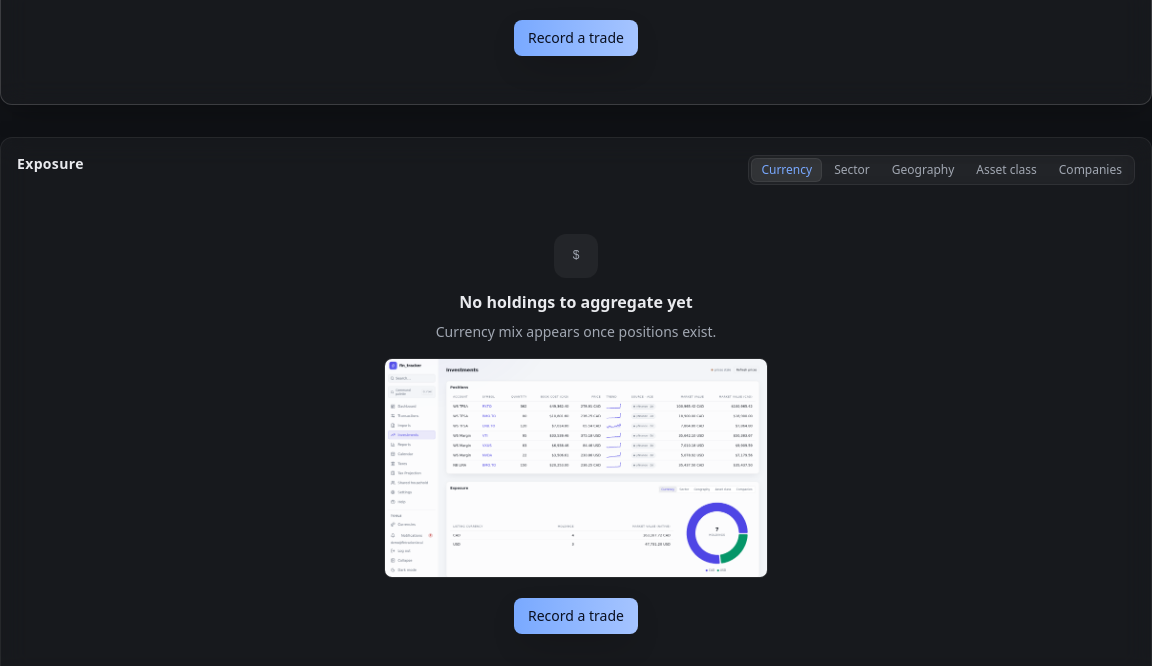
Test: M169 — the exposure drill-down › never fetches a drill for a bucket nobody opened
(page scrolled)
Click the tab "Geography": [923, 170] box 882,158 -> 964,182
(page scrolled)
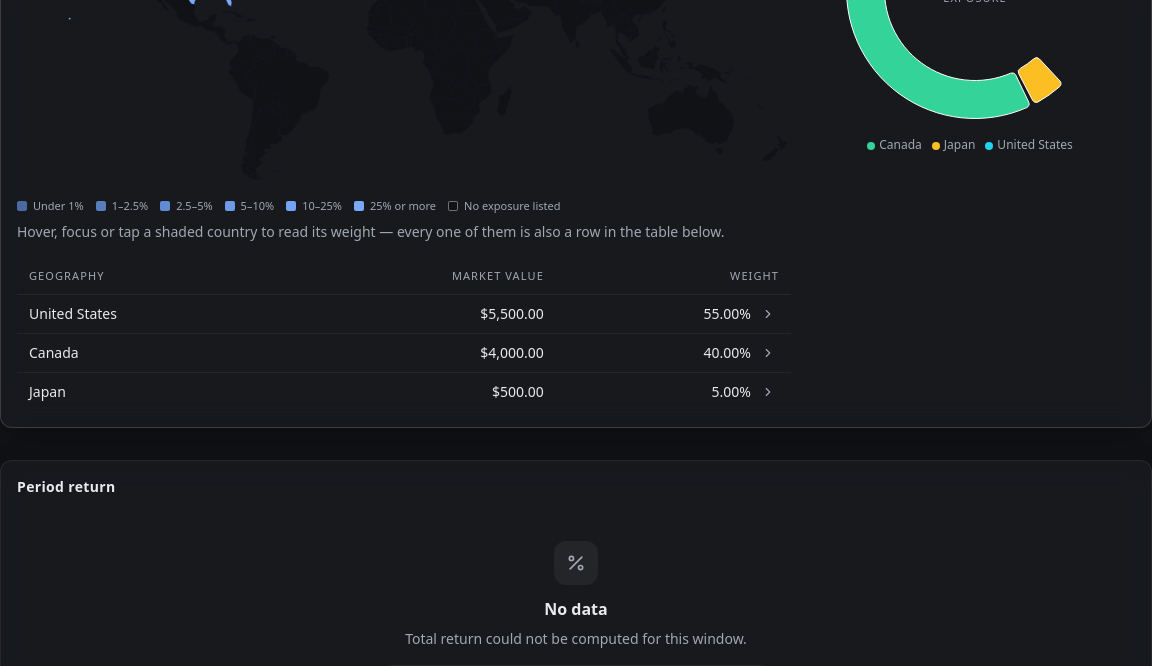
Expected: the element named "Exposure breakdown table" is shown, 17,258 -> 791,411
